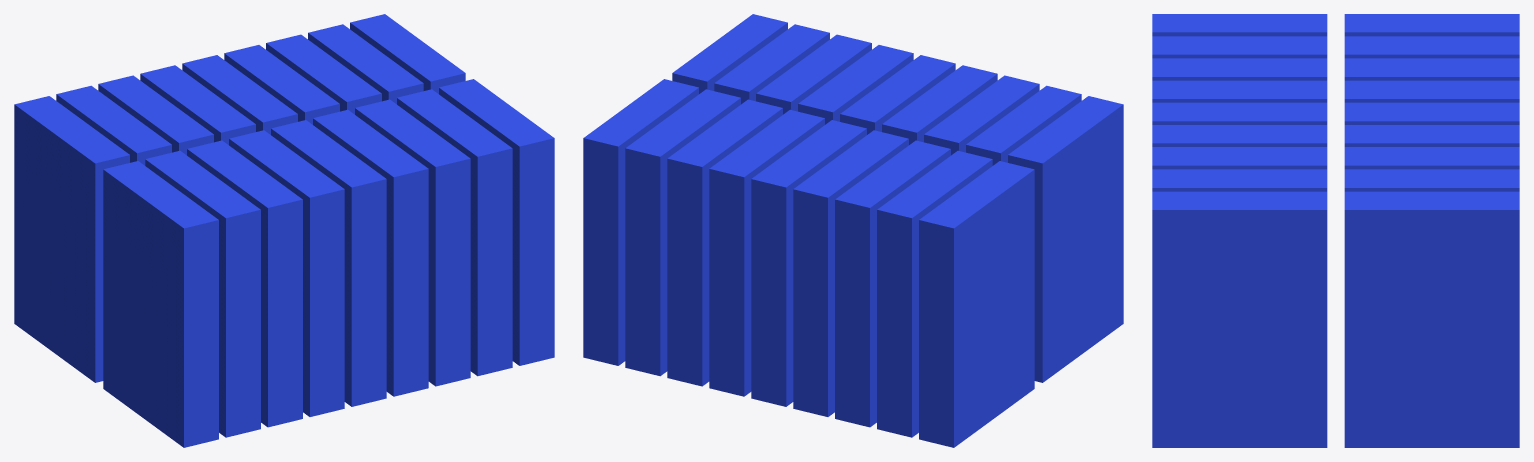
File: boxes_straight.fbx
3 views of the same model, side by side, from view 1: azimuth 30°, elevation 25°; view 2: azimuth 150°, elevation 25°; view 3: azimuth 270°, elevation 25° (orthographic). The views are drawn at different scales.
Parts seen in each view (by area): view 1: boxes_straight; view 2: boxes_straight; view 3: boxes_straight.
Part boxes in pixels (box(x1,y1,x2,y2)): boxes_straight: box(14, 14, 554, 447); boxes_straight: box(583, 14, 1123, 447); boxes_straight: box(1152, 14, 1519, 447).
Bounding box in the file's own units: 53 × 30 × 42.
